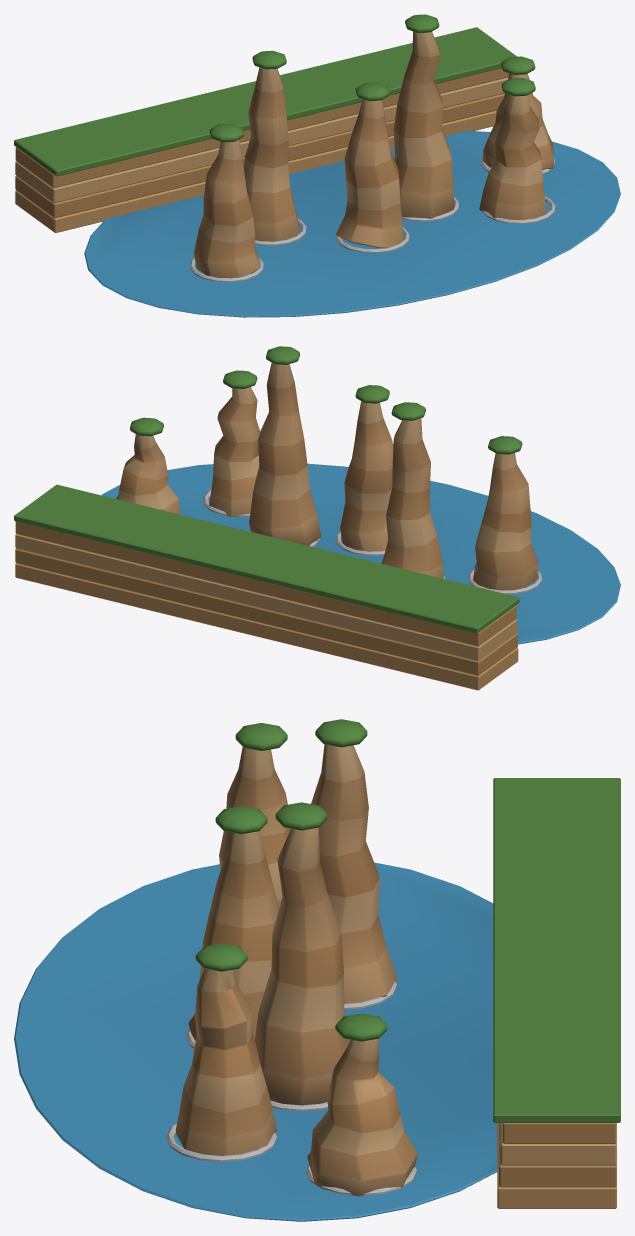
File: lm-apostles.glb
3 views of the same model, one above another, from view 1: azimuth 30°, elevation 25°; view 2: azimuth 150°, elevation 25°; view 3: azimuth 270°, elevation 25° (orthographic). The views are drawn at different scales.
Size of the model in its own units: 21.6 by 8.24 by 15.2.
